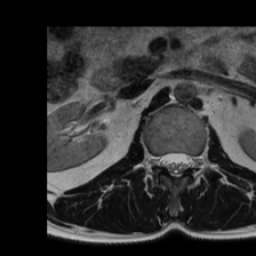CCS_normal: (171, 139, 180, 186)
LFS_normal: (192, 144, 201, 175)
LLS_normal: (180, 144, 192, 178)
RFS_normal: (152, 145, 161, 176)
RLS_normal: (161, 144, 171, 177)
